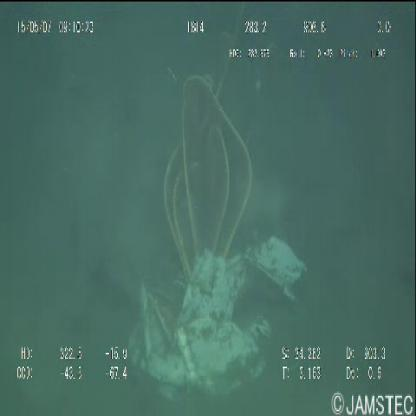Rác: (128, 233, 309, 400)
